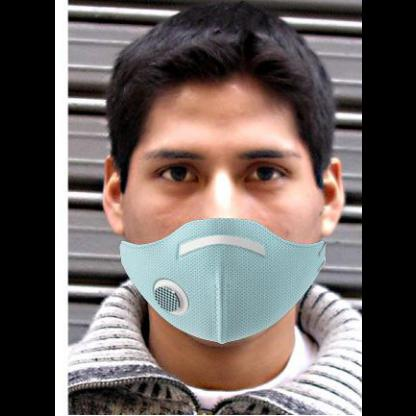FFP Mask: (89, 53, 360, 351)
